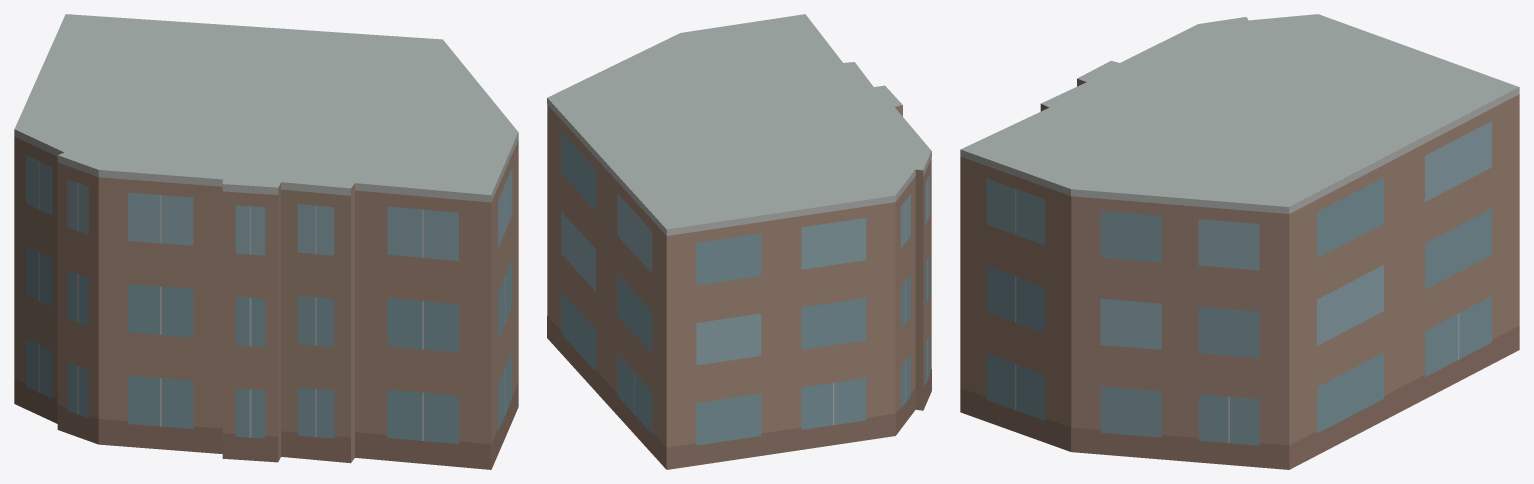
Rendered from survey-upis-32970086.glb.
3 views of the same model, side by side, from view 1: azimuth 30°, elevation 25°; view 2: azimuth 150°, elevation 25°; view 3: azimuth 270°, elevation 25° (orthographic). The views are drawn at different scales.
Parts seen in each view (by area): view 1: survey-upis-32970086.tmp; view 2: survey-upis-32970086.tmp; view 3: survey-upis-32970086.tmp.
Boxes of the visible parts, x1,y1,x2,y2 form: survey-upis-32970086.tmp: (14, 14, 518, 469); survey-upis-32970086.tmp: (547, 14, 931, 469); survey-upis-32970086.tmp: (960, 14, 1519, 469).
Size of the model in its own units: 14.35 by 9.1 by 17.55.
